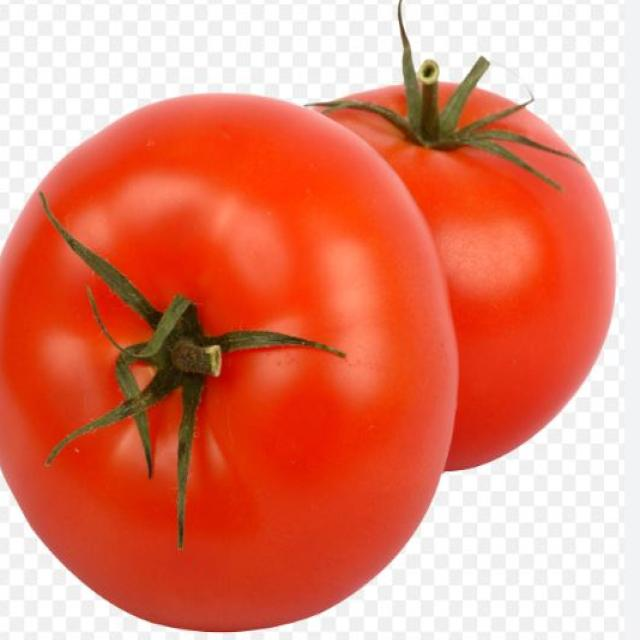Healthy: (0, 86, 432, 626), (320, 67, 612, 500)
